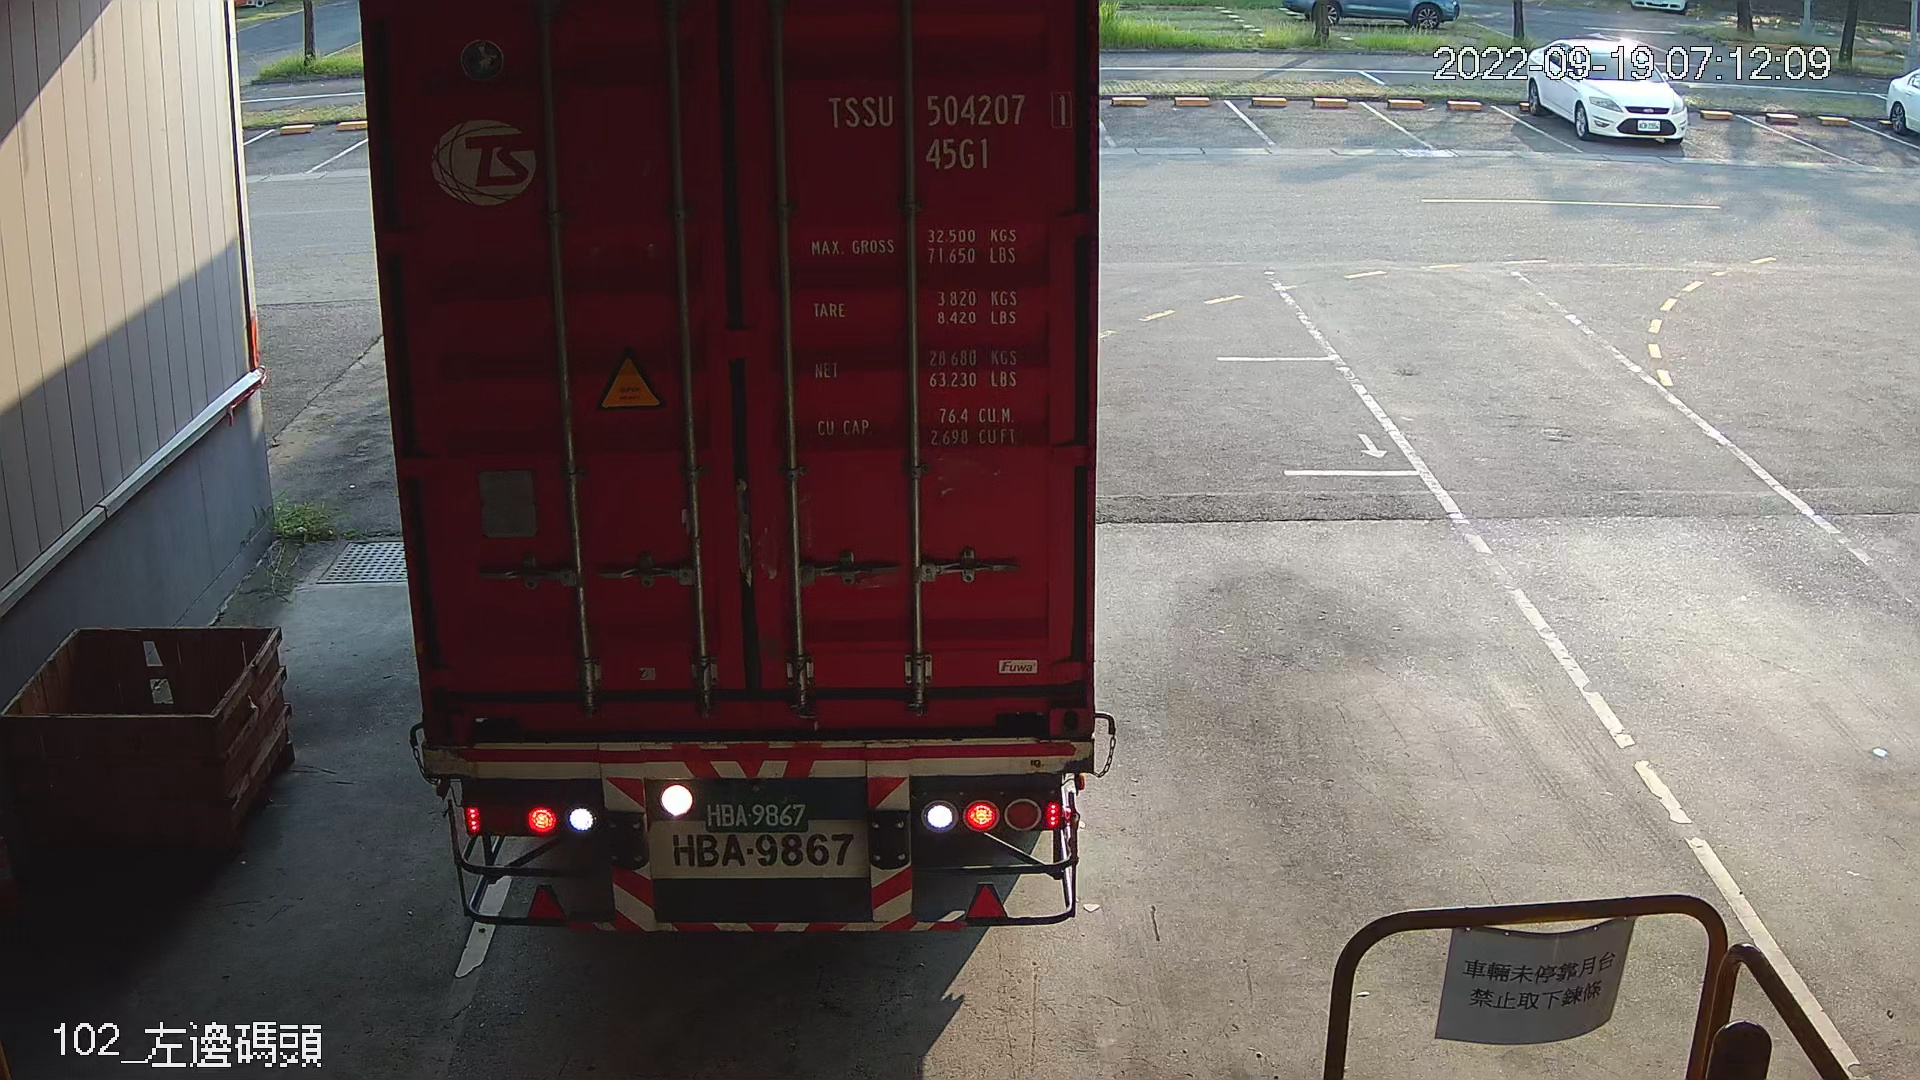container: (814, 79, 1084, 179)
